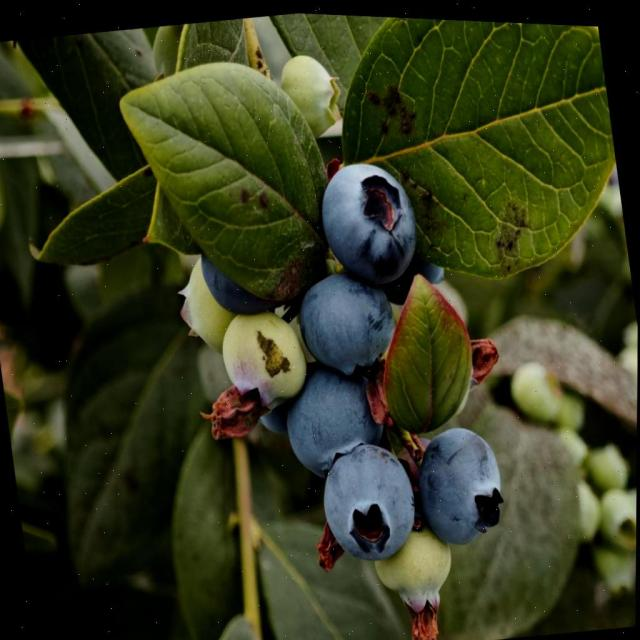RipeBlueBerry: (316, 151, 424, 289), (310, 432, 420, 566), (410, 418, 510, 550), (295, 263, 401, 378)
UnripeBlueBerry: (212, 298, 312, 421), (277, 48, 347, 133)
